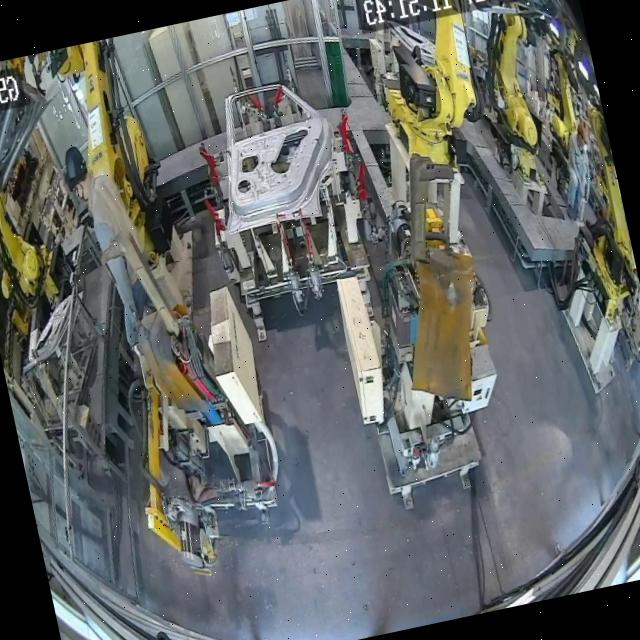Person: (60, 134, 164, 354)
